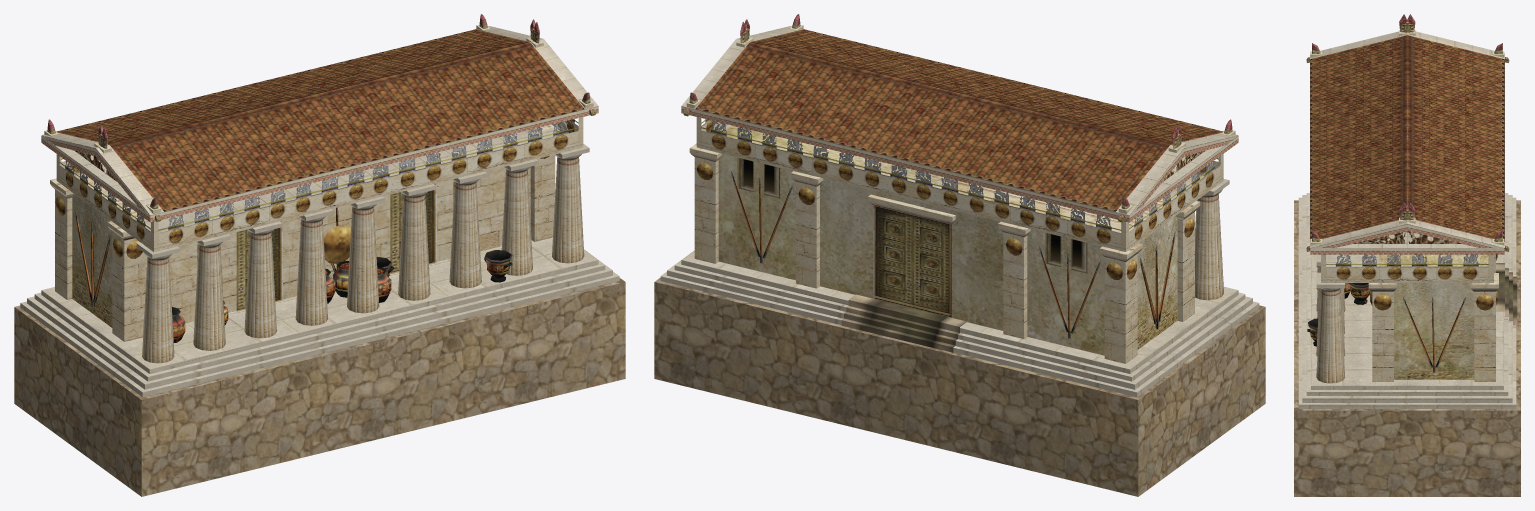
Rendered from spart_stoa_b.dae.
3 views of the same model, side by side, from view 1: azimuth 30°, elevation 25°; view 2: azimuth 150°, elevation 25°; view 3: azimuth 270°, elevation 25° (orthographic). The views are drawn at different scales.
Visible parts, largest first — view 1: "Persian" Stoa; view 2: "Persian" Stoa; view 3: "Persian" Stoa.
Boxes of the visible parts, x1,y1,x2,y2 form: "Persian" Stoa: (14, 14, 625, 496); "Persian" Stoa: (654, 14, 1265, 496); "Persian" Stoa: (1294, 14, 1520, 496).
Bounding box in the file's own units: 26.07 × 11.88 × 16.38.
